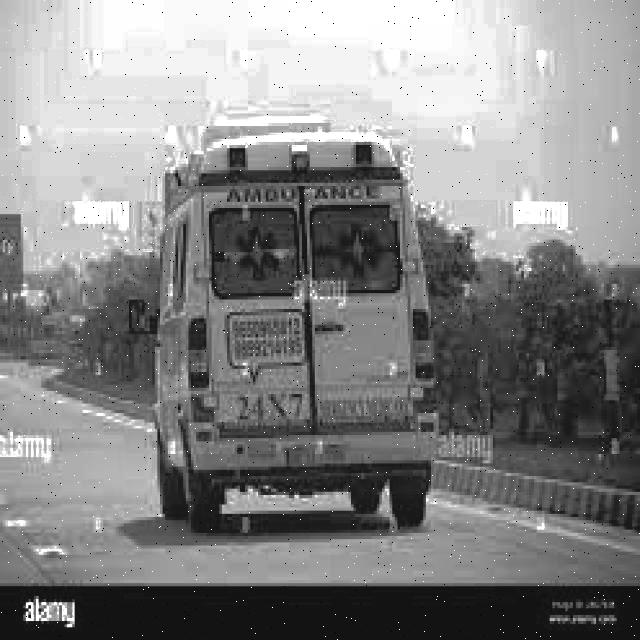LCV: (191, 130, 433, 493)
